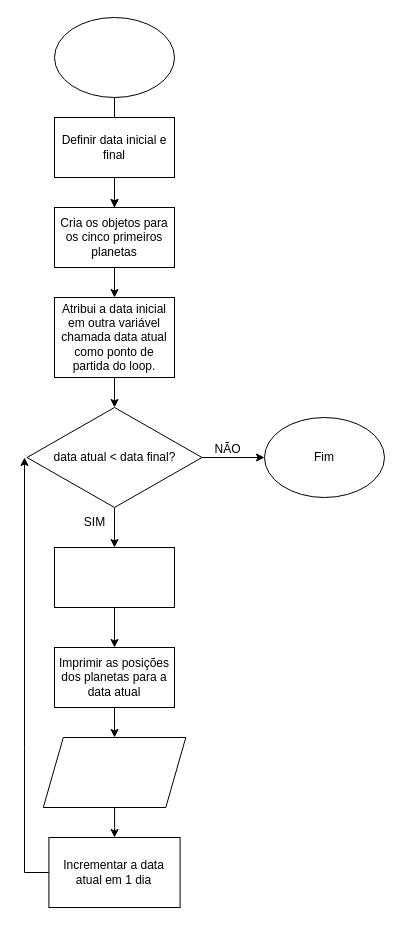
Image size: 402x925. Some labels were removed from this diagram. The shapes that lost their labels are listed below. From the top down, each one's centre as x and y in pixels, then its label:
At (114,57): "Início do programa".
At (114,577): "Calcular as posições dos planetas para a data atual".
At (114,772): "Mostrar posições dos planetas (RA/Dec)".
